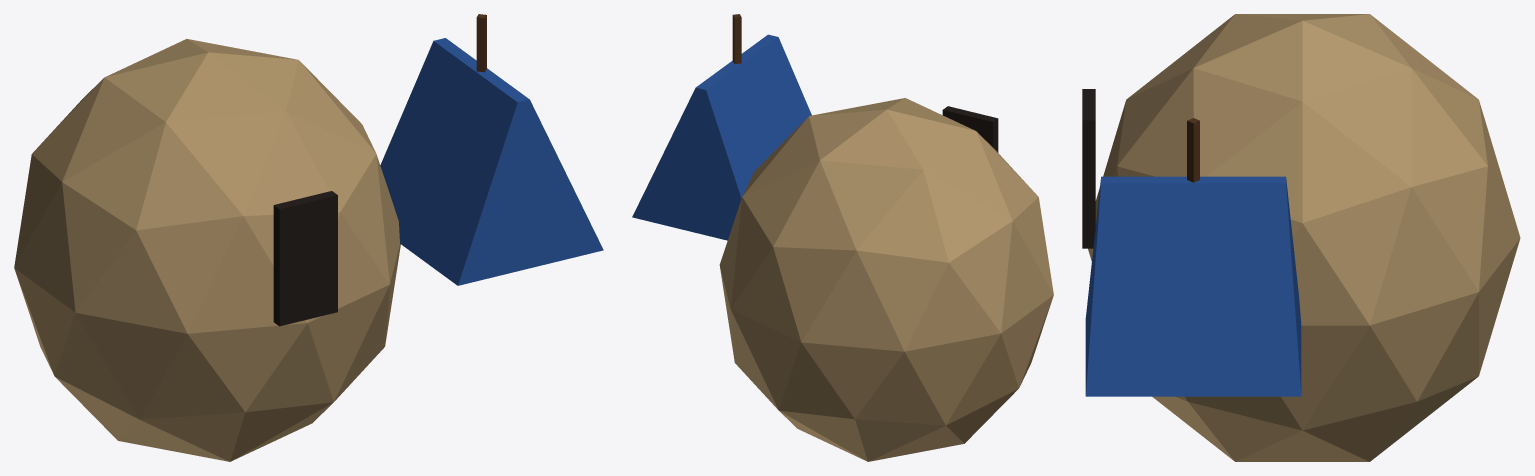
File: minotaur_house_b.glb
The picture shows the model from 3 angles, left to right: view 1: azimuth 30°, elevation 25°; view 2: azimuth 150°, elevation 25°; view 3: azimuth 270°, elevation 25°; orthographic projection. The views are drawn at different scales.
Parts seen in each view (by area): view 1: minotaur_house_b; view 2: minotaur_house_b; view 3: minotaur_house_b.
Part boxes in pixels (<box>): minotaur_house_b: <box>14,14,603,461</box>; minotaur_house_b: <box>632,14,1053,461</box>; minotaur_house_b: <box>1082,14,1520,461</box>.
Bounding box in the file's own units: 2.68 × 2.3 × 2.01.
